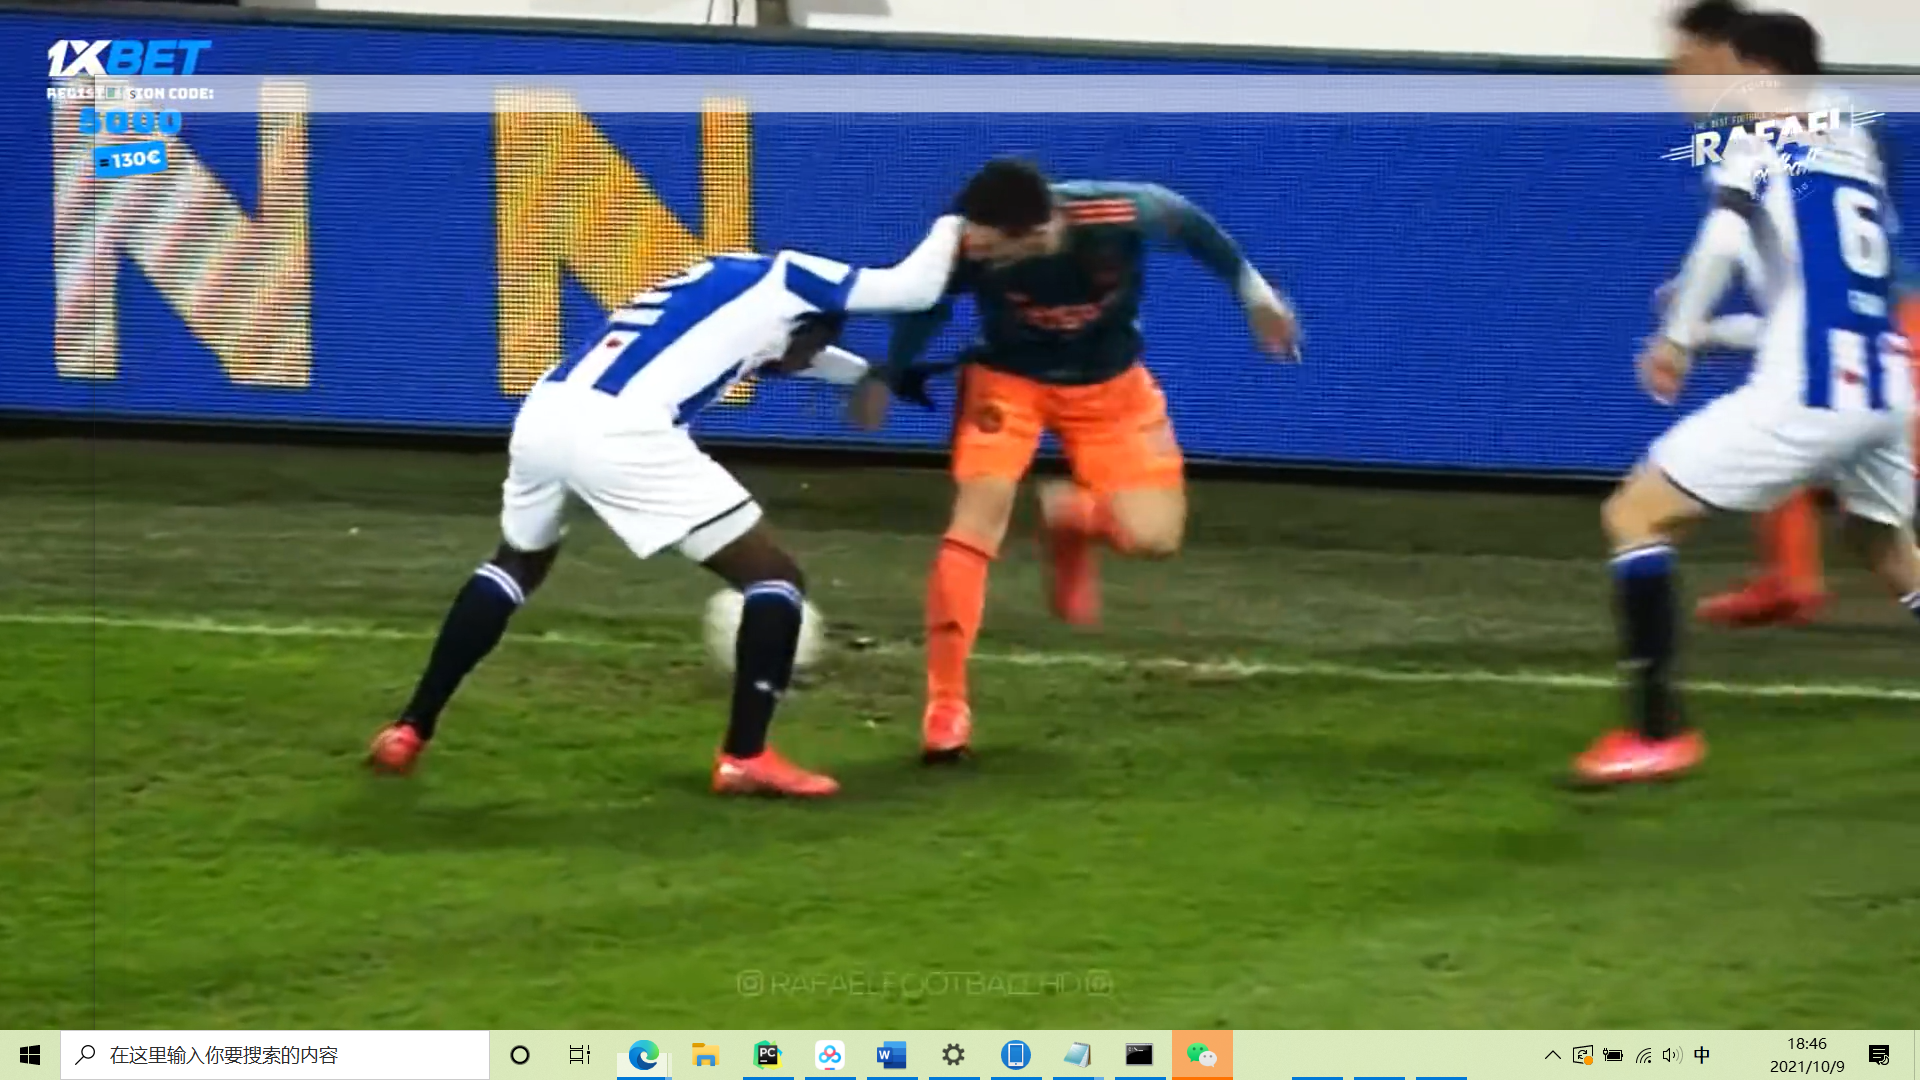ft: (695, 582, 829, 684)
